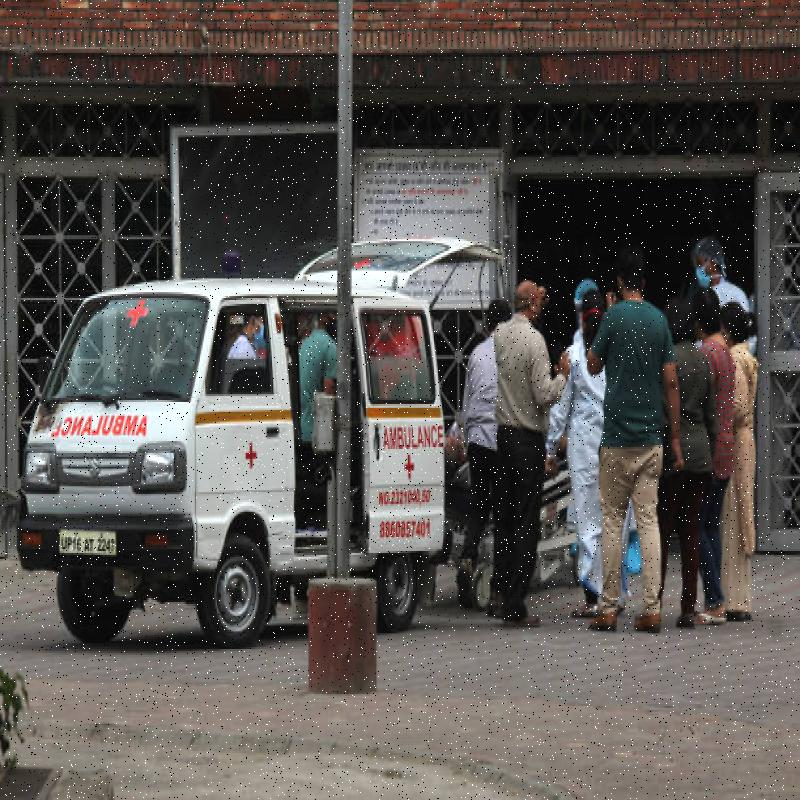ambulance: (45, 271, 434, 645)
